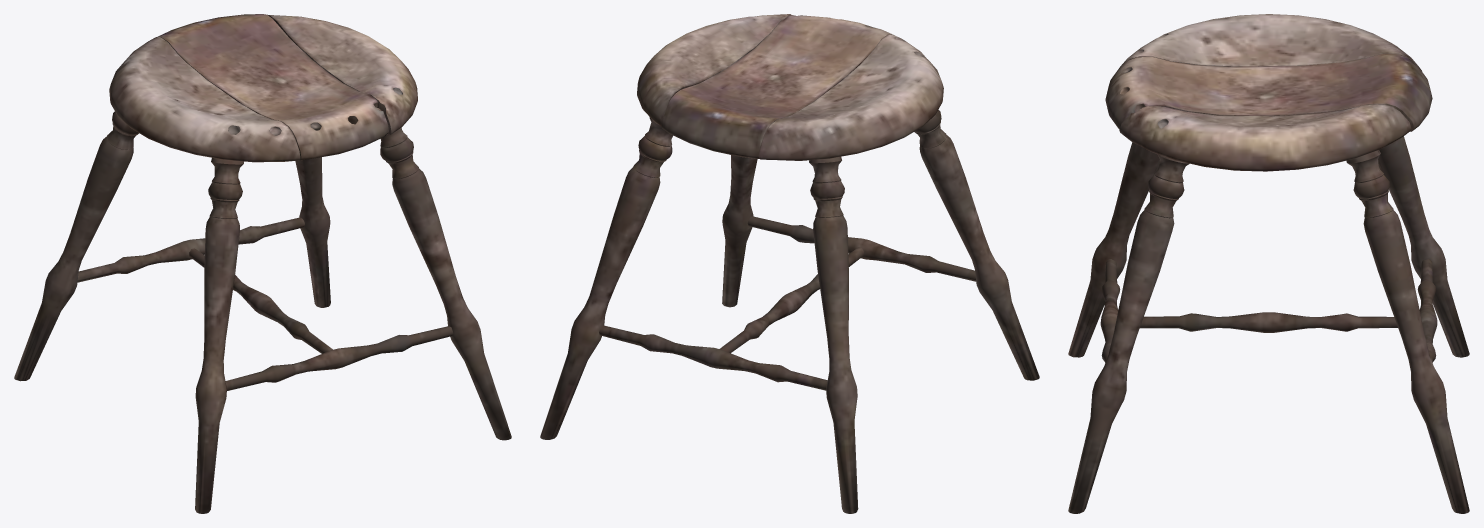
File: wooden_stool_01.glb
3 renders of one model, left to right at view 1: azimuth 30°, elevation 25°; view 2: azimuth 150°, elevation 25°; view 3: azimuth 270°, elevation 25°, orthographic. The views are drawn at different scales.
Visible parts, largest first — view 1: wooden_stool_01; view 2: wooden_stool_01; view 3: wooden_stool_01.
Part boxes in pixels (x1=…): wooden_stool_01: x1=14, y1=14, x2=511, y2=513; wooden_stool_01: x1=540, y1=14, x2=1039, y2=513; wooden_stool_01: x1=1068, y1=14, x2=1469, y2=513.
Bounding box in the file's own units: 0.4246 × 0.4365 × 0.4417.
Materials: 1 (1 with a texture image).
